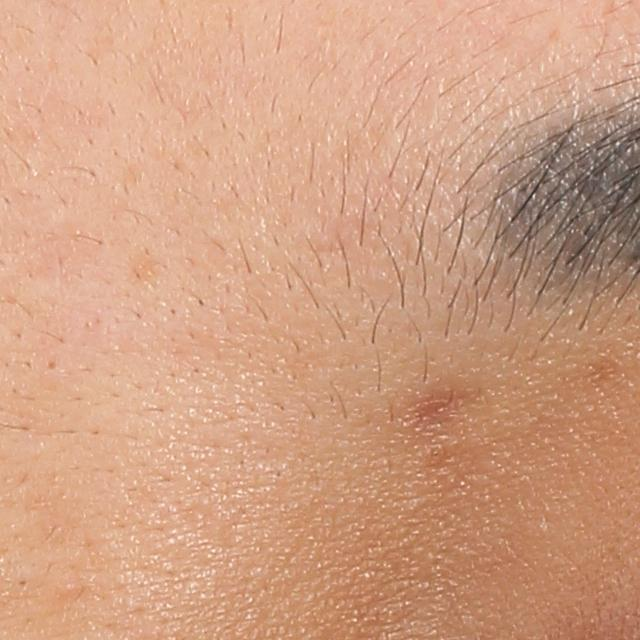comedo: (60, 571, 82, 596), (42, 352, 59, 379), (15, 567, 33, 591)
